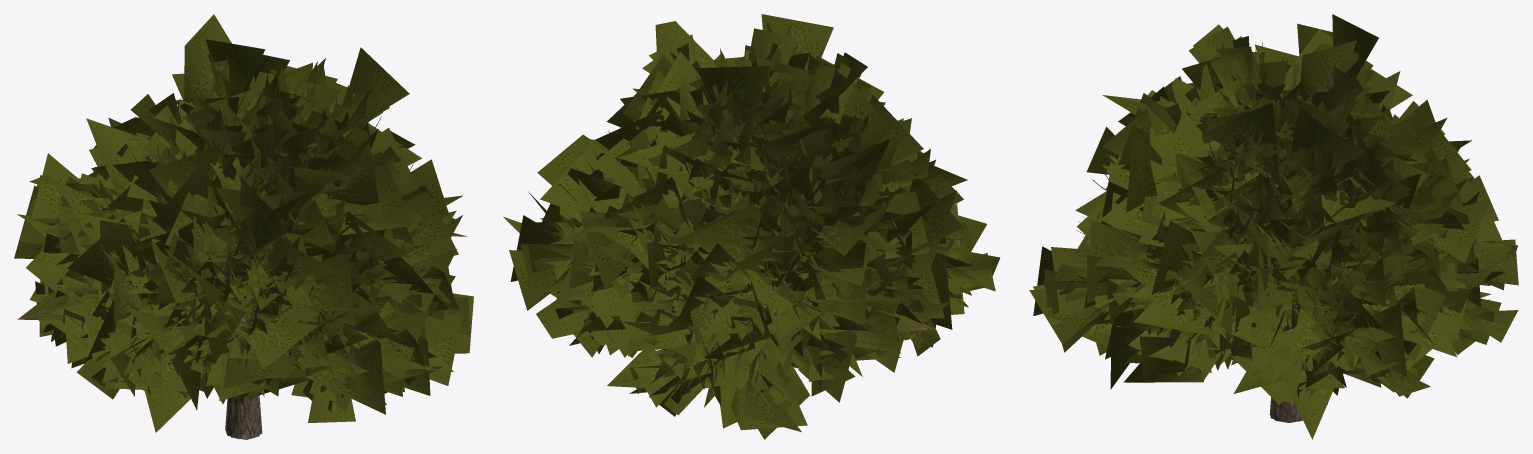
Rendered from pohon.glb.
The picture shows the model from 3 angles, left to right: view 1: azimuth 30°, elevation 25°; view 2: azimuth 150°, elevation 25°; view 3: azimuth 270°, elevation 25°; orthographic projection. The views are drawn at different scales.
Parts seen in each view (by area): view 1: Tree_A_L2, Tree_B_L2, Tree_A_L1, Tree_B_L1, Tree_A_L0, Tree_B_L0, Tree_C_L2; view 2: Tree_A_L2, Tree_B_L2, Tree_A_L1, Tree_B_L1, Tree_A_L0, Tree_B_L0, Tree_C_L1; view 3: Tree_B_L2, Tree_A_L2, Tree_A_L1, Tree_B_L1, Tree_A_L0, Tree_B_L0, Tree_C_L2.
Part boxes in pixels (<box>): Tree_A_L2: <box>19,89,473,438</box>; Tree_B_L2: <box>14,14,459,432</box>; Tree_A_L1: <box>17,150,469,422</box>; Tree_B_L1: <box>18,50,423,412</box>; Tree_A_L0: <box>30,170,455,439</box>; Tree_B_L0: <box>35,53,420,396</box>; Tree_C_L2: <box>109,195,316,359</box>; Tree_A_L2: <box>503,70,986,439</box>; Tree_B_L2: <box>554,14,973,390</box>; Tree_A_L1: <box>520,109,999,416</box>; Tree_B_L1: <box>573,28,937,372</box>; Tree_A_L0: <box>545,103,984,399</box>; Tree_B_L0: <box>585,42,948,347</box>; Tree_C_L1: <box>640,153,876,350</box>; Tree_B_L2: <box>1086,14,1489,404</box>; Tree_A_L2: <box>1029,60,1511,439</box>; Tree_A_L1: <box>1044,96,1518,418</box>; Tree_B_L1: <box>1086,24,1477,370</box>; Tree_A_L0: <box>1068,170,1517,418</box>; Tree_B_L0: <box>1108,40,1457,334</box>; Tree_C_L2: <box>1229,142,1385,387</box>.
Bounding box in the file's own units: 12.85 × 10.8 × 12.46.
3 materials, 3 textured.
